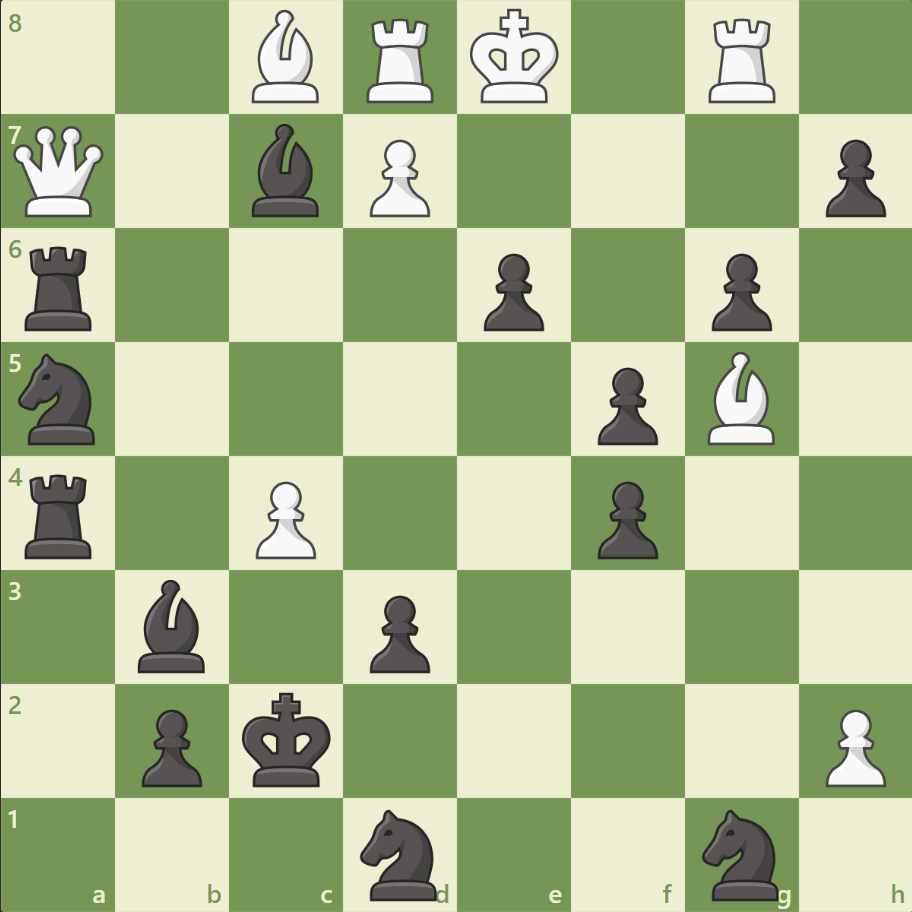B: (244, 6, 328, 109), (698, 347, 782, 449)
K: (465, 4, 565, 112)
P: (247, 473, 322, 564), (361, 132, 435, 223), (815, 700, 889, 791)
Q: (10, 122, 109, 222)
R: (700, 12, 783, 109), (360, 12, 442, 109)
b: (244, 120, 328, 222), (131, 574, 215, 676)
k: (238, 685, 338, 793)
n: (351, 802, 449, 904), (11, 348, 108, 450), (692, 802, 789, 904)
p: (474, 246, 549, 337), (701, 246, 776, 337), (133, 700, 208, 791), (815, 132, 889, 223), (588, 359, 662, 450), (588, 473, 662, 564), (361, 586, 435, 677)
r: (19, 239, 102, 336), (19, 466, 102, 563)
